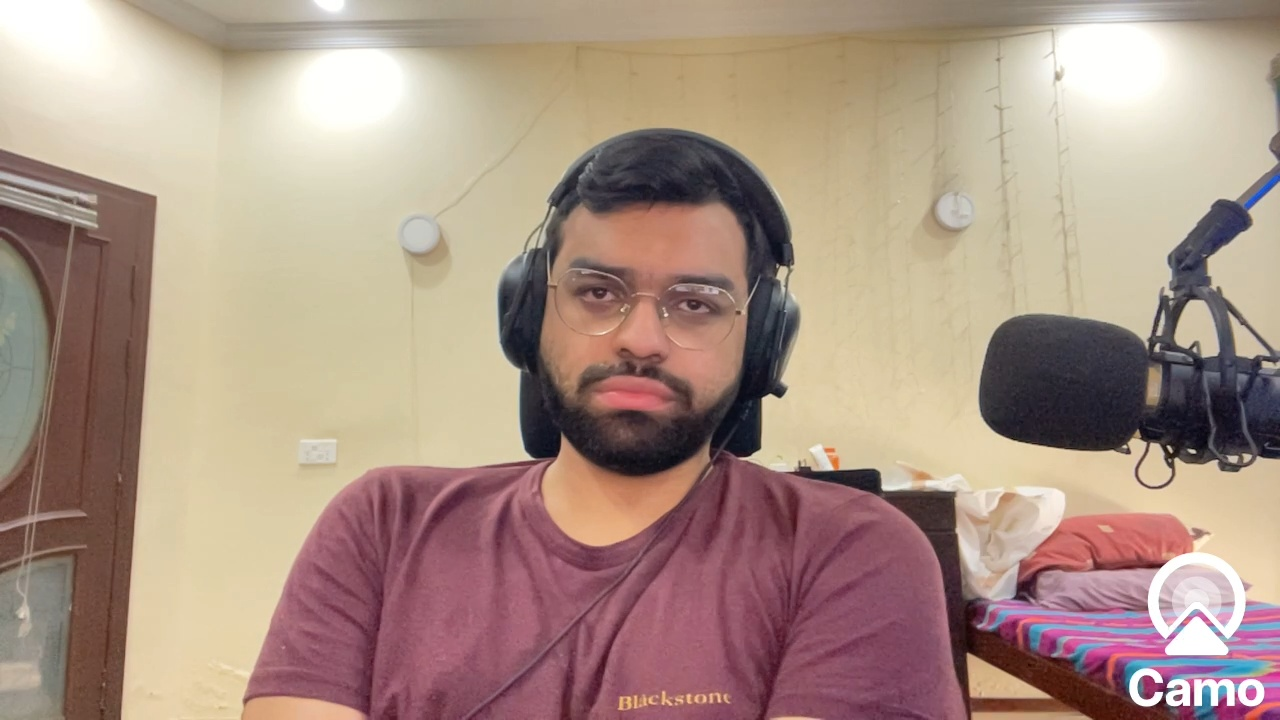neutral: (539, 203, 754, 478)
